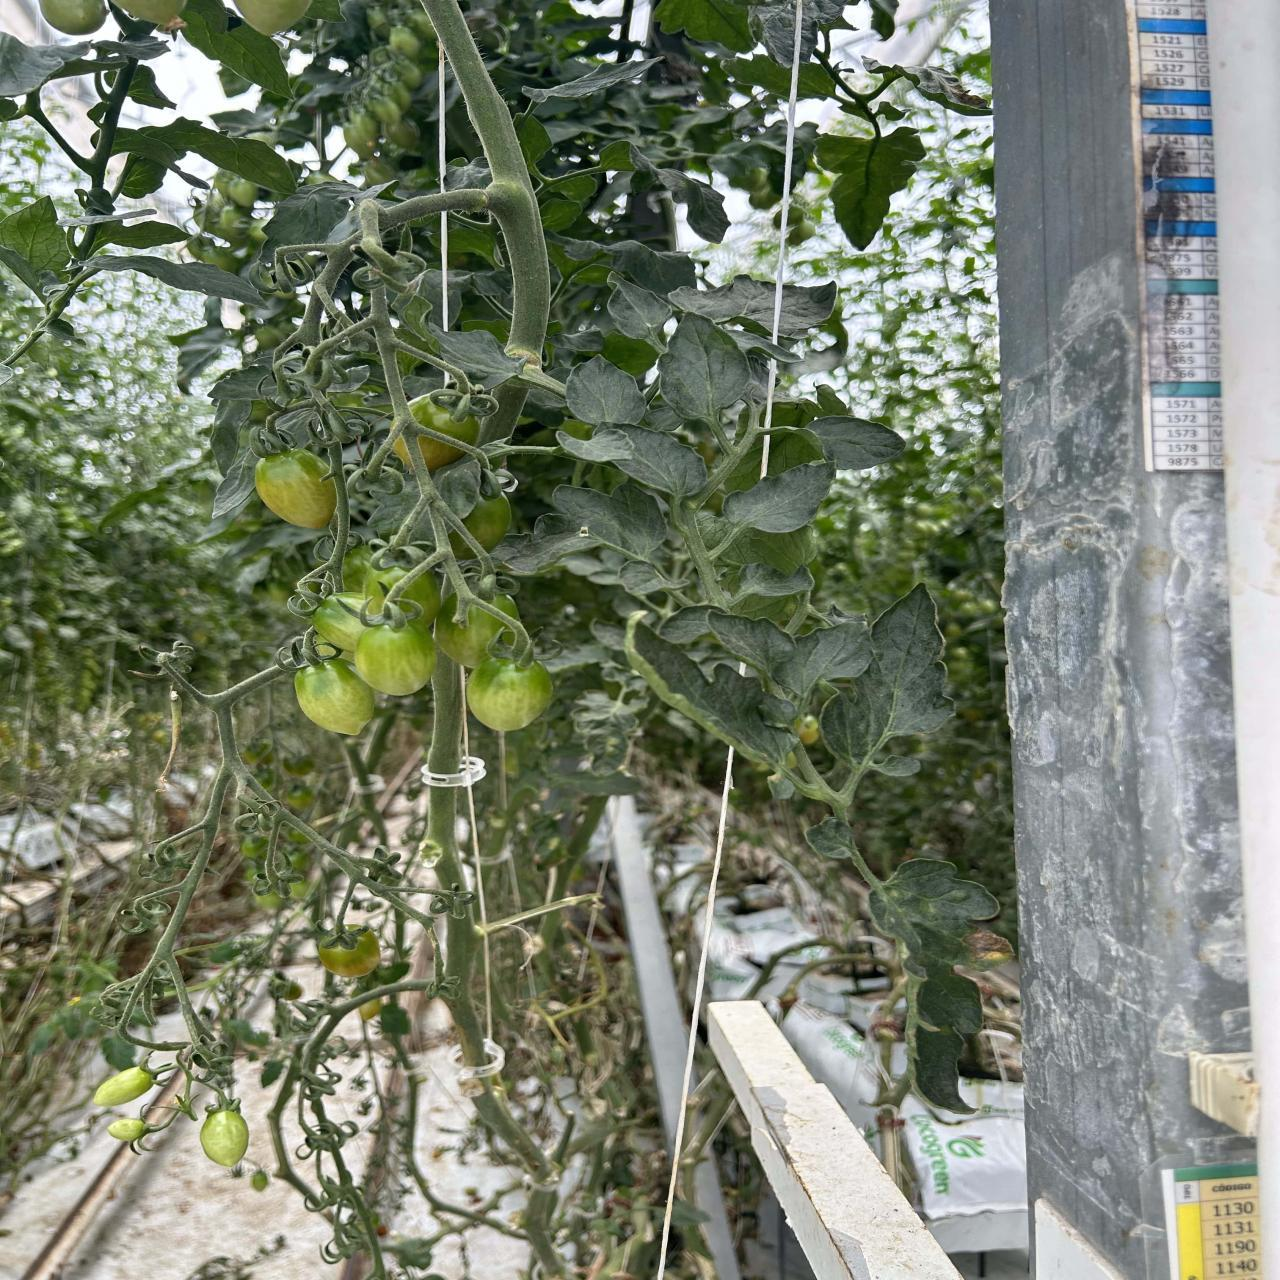Rugose Flower: (252, 816, 301, 904), (182, 1001, 233, 1084), (121, 892, 171, 934), (141, 847, 195, 885), (430, 885, 474, 918), (161, 1089, 197, 1128), (367, 847, 402, 885), (425, 974, 461, 1003), (185, 1070, 193, 1085)
Rugose leaf: (870, 859, 1012, 1110), (819, 584, 954, 815), (626, 617, 798, 768), (120, 118, 295, 197), (816, 127, 925, 250), (599, 141, 730, 243), (259, 181, 397, 260), (535, 481, 666, 558), (404, 297, 522, 381), (660, 315, 751, 423), (545, 231, 695, 297), (600, 425, 706, 497), (863, 57, 990, 115), (523, 57, 659, 102), (666, 277, 776, 329), (708, 610, 794, 675), (606, 272, 672, 354), (212, 445, 261, 519), (748, 0, 796, 67), (211, 400, 251, 475), (779, 282, 836, 335), (268, 404, 325, 452), (798, 0, 839, 63)
Rugose tomato: (256, 450, 336, 529), (467, 658, 552, 731), (294, 659, 375, 735), (354, 620, 436, 695), (435, 597, 506, 670), (409, 396, 478, 444), (313, 595, 365, 658), (199, 1109, 248, 1166), (319, 931, 380, 976), (465, 495, 511, 552), (93, 1065, 155, 1107), (400, 574, 440, 632), (363, 566, 407, 614), (420, 437, 463, 471), (108, 1117, 149, 1142), (497, 595, 518, 618), (395, 443, 407, 459)
